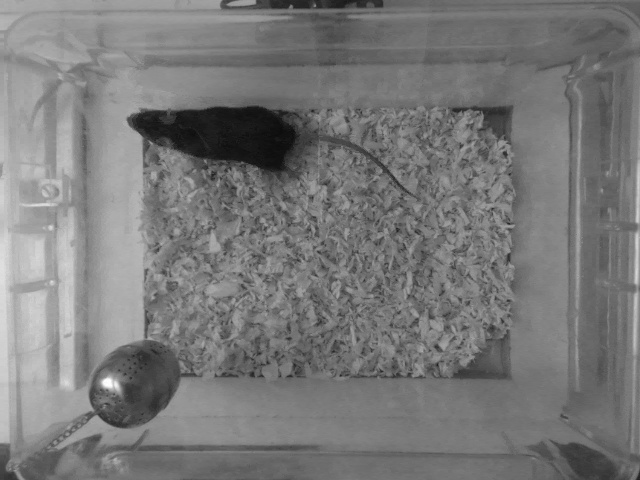mice: (127, 101, 422, 198)
